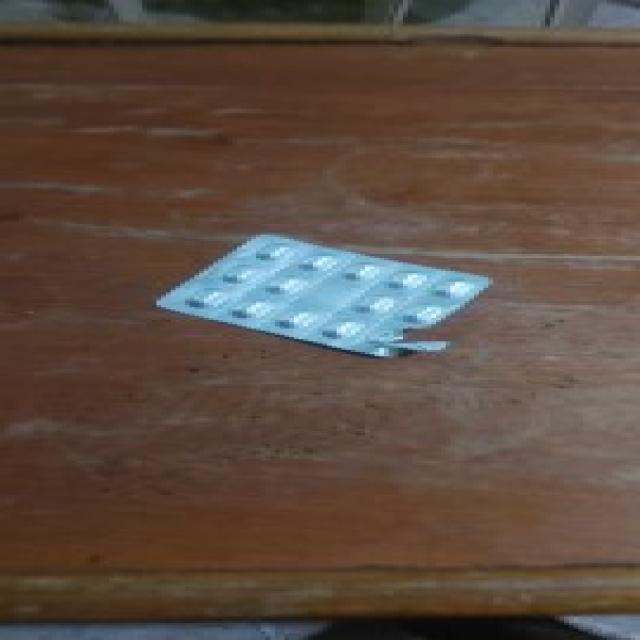Cacat: (155, 232, 498, 364)
Kemasan: (367, 327, 457, 360)
